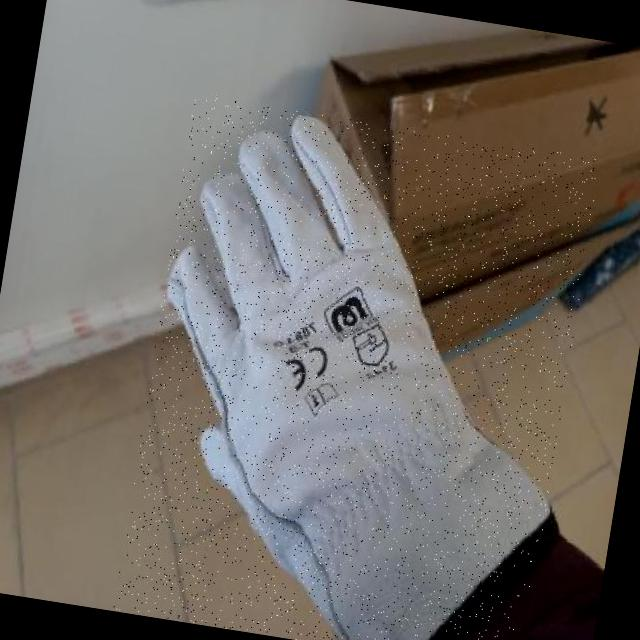gloves: (113, 97, 592, 640)
